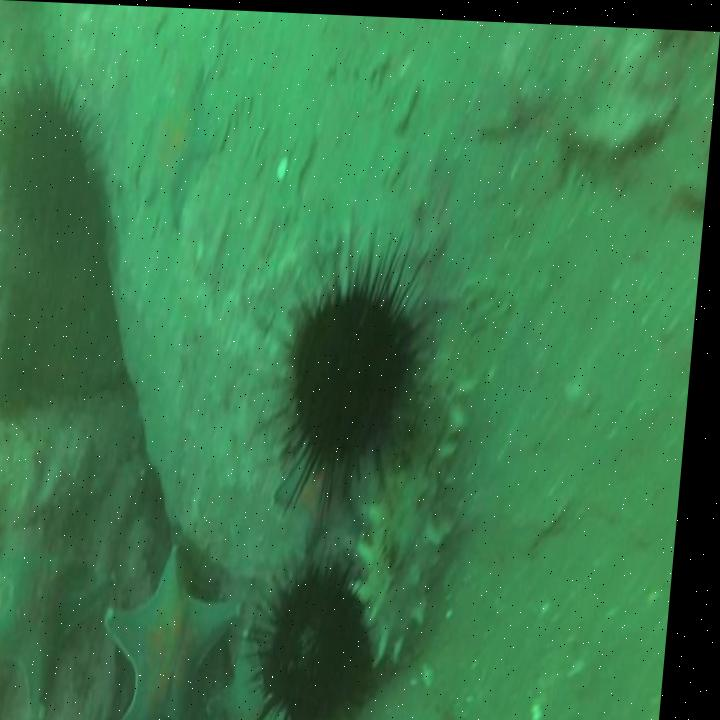echinus: (286, 283, 417, 468), (270, 566, 382, 720), (2, 93, 102, 253)
holothurian: (358, 348, 481, 656)
starfish: (110, 532, 259, 720), (0, 545, 125, 720), (138, 57, 218, 228)
